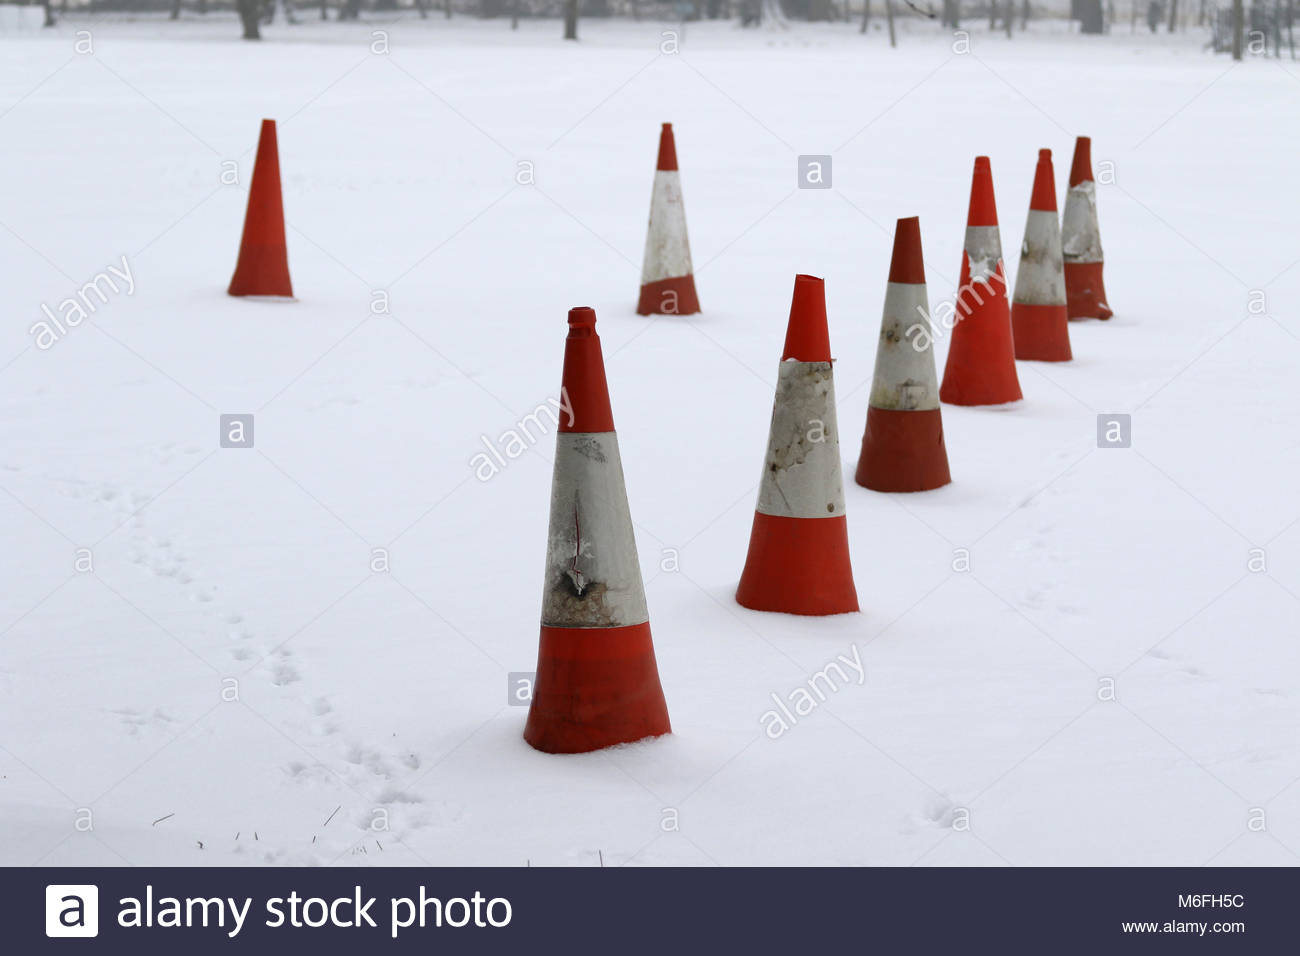cone: (462, 257, 722, 778), (712, 261, 890, 631), (840, 200, 975, 508), (916, 148, 1040, 426), (186, 103, 328, 326), (602, 108, 726, 341), (977, 143, 1088, 374), (1034, 127, 1123, 340)
